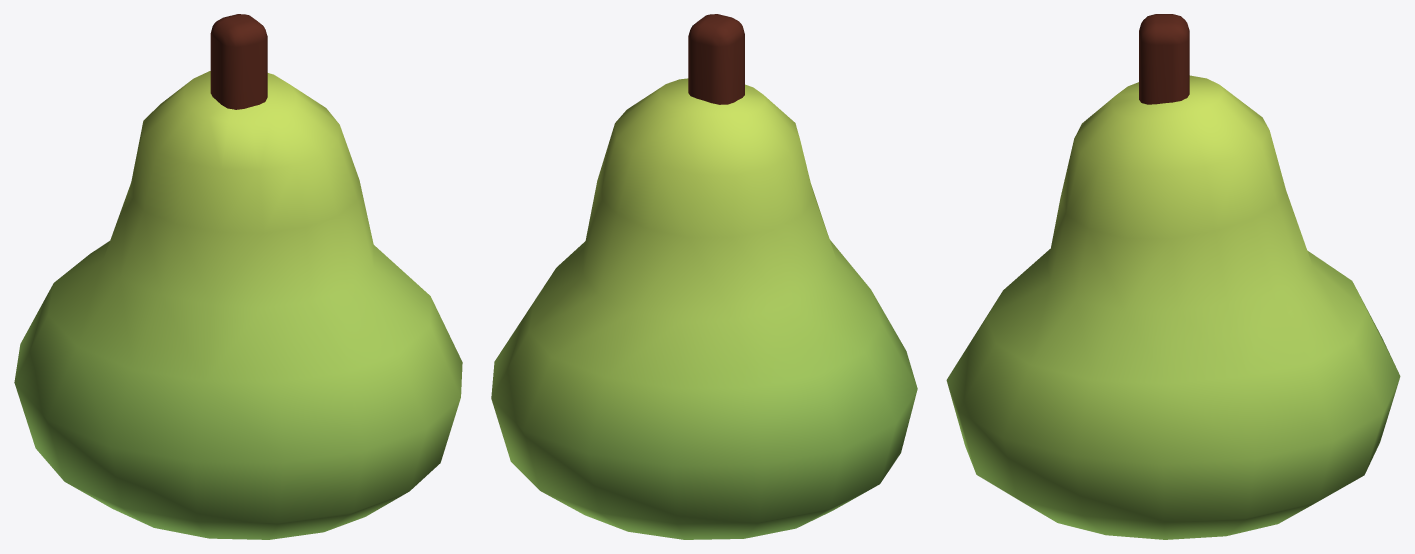
The model's file is pear.fbx.
3 views of the same model, side by side, from view 1: azimuth 30°, elevation 25°; view 2: azimuth 150°, elevation 25°; view 3: azimuth 270°, elevation 25° (orthographic).
Visible parts, largest first — view 1: Sphere.004; view 2: Sphere.004; view 3: Sphere.004.
Boxes of the visible parts, <box> form: Sphere.004: <box>14,14,462,539</box>; Sphere.004: <box>491,14,917,539</box>; Sphere.004: <box>946,14,1400,539</box>.
Bounding box in the file's own units: 1.97 × 2.3 × 2.06.
